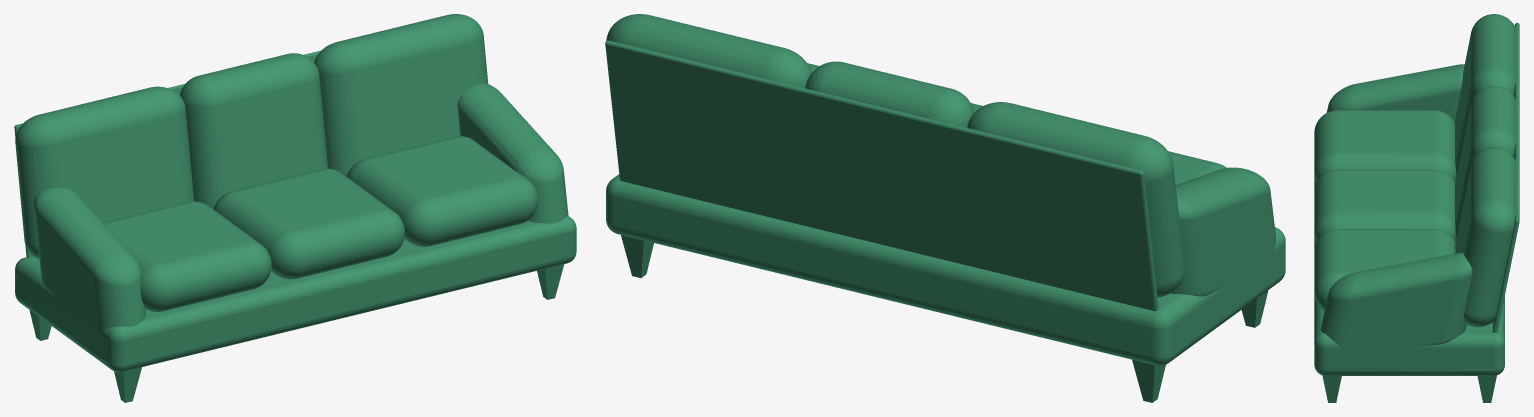
Rendered from couch_2.glb.
3 renders of one model, left to right at view 1: azimuth 30°, elevation 25°; view 2: azimuth 150°, elevation 25°; view 3: azimuth 270°, elevation 25°, orthographic. The views are drawn at different scales.
Parts seen in each view (by area): view 1: Mesh_Mesh_head_geo.001_lambert2SG.001; view 2: Mesh_Mesh_head_geo.001_lambert2SG.001; view 3: Mesh_Mesh_head_geo.001_lambert2SG.001.
Boxes of the visible parts, bbox=[...] form: Mesh_Mesh_head_geo.001_lambert2SG.001: bbox=[14, 14, 576, 402]; Mesh_Mesh_head_geo.001_lambert2SG.001: bbox=[605, 14, 1285, 402]; Mesh_Mesh_head_geo.001_lambert2SG.001: bbox=[1314, 14, 1519, 402].
Size of the model in its own units: 12 by 5.34 by 5.
